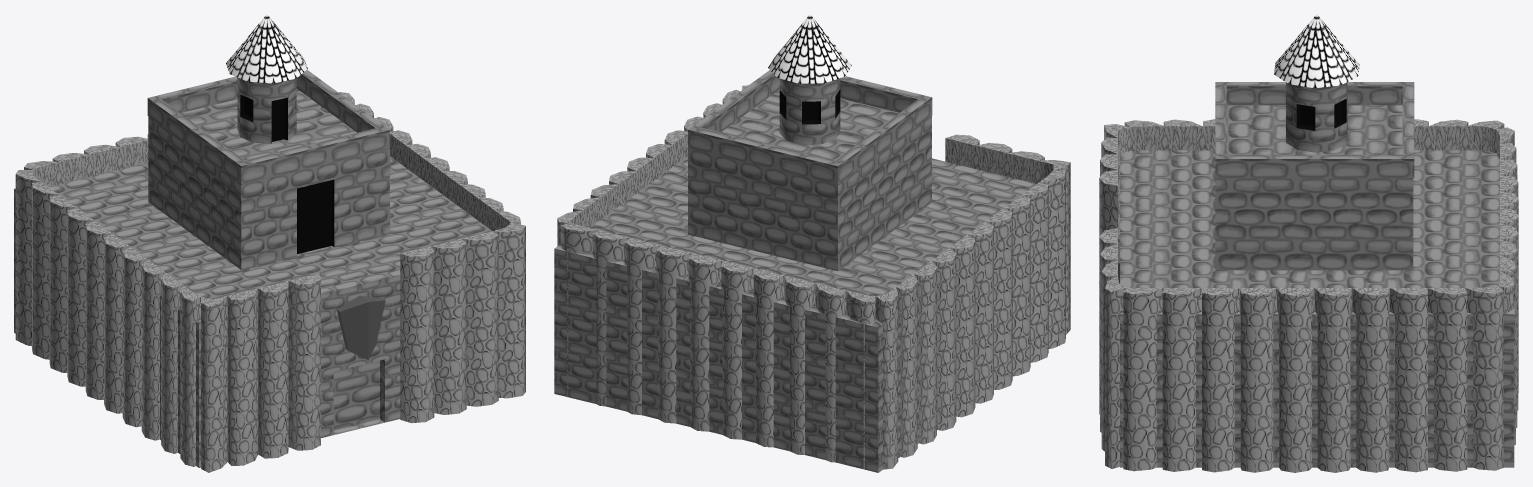
The model's file is gongon_barrack.fbx.
3 renders of one model, left to right at view 1: azimuth 30°, elevation 25°; view 2: azimuth 150°, elevation 25°; view 3: azimuth 270°, elevation 25°, orthographic. The views are drawn at different scales.
Visible parts, largest first — view 1: BarrackWall, BarrackBody, BarrackTop, Barrack2FWall, BrrackTower, BarrackSign; view 2: BarrackWall, BarrackBody, BarrackTop, Barrack2FWall, BrrackTower; view 3: BarrackWall, BarrackBody, BarrackTop, Barrack2FWall, BrrackTower.
Boxes of the visible parts, box(x1,y1,x2,y2) form: BarrackWall: box(15, 92, 525, 472); BarrackBody: box(14, 156, 491, 467); BarrackTop: box(148, 88, 389, 270); Barrack2FWall: box(147, 70, 389, 183); BrrackTower: box(226, 14, 307, 143); BarrackSign: box(337, 295, 385, 360); BarrackWall: box(557, 85, 1070, 469); BarrackBody: box(554, 156, 1036, 472); BarrackTop: box(688, 89, 931, 270); Barrack2FWall: box(688, 70, 932, 184); BrrackTower: box(768, 14, 851, 144); BarrackWall: box(1099, 119, 1518, 472); BarrackBody: box(1120, 150, 1514, 467); BarrackTop: box(1215, 105, 1413, 270); Barrack2FWall: box(1215, 82, 1414, 178); BrrackTower: box(1274, 14, 1359, 152).
Bounding box in the file's own units: 2233 × 2174 × 2232.
